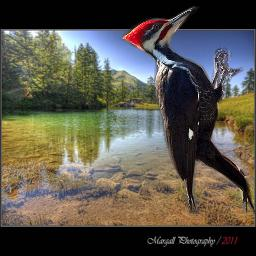Woodpecker: (121, 6, 256, 214)
